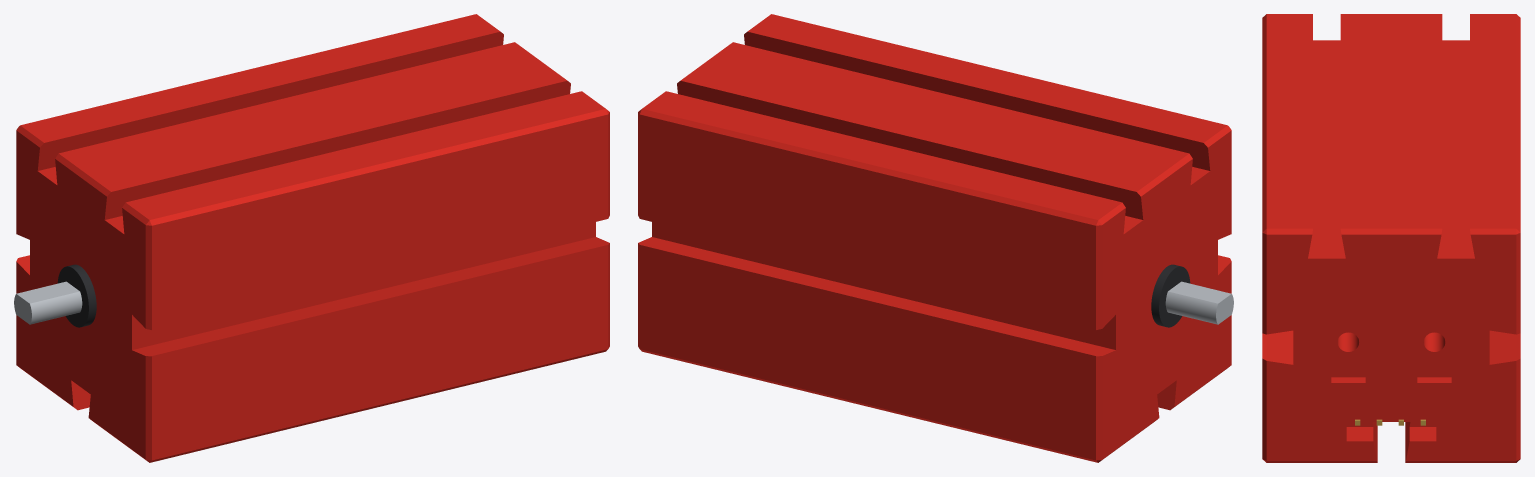
File: encoder_motor.glb
The picture shows the model from 3 angles, left to right: view 1: azimuth 30°, elevation 25°; view 2: azimuth 150°, elevation 25°; view 3: azimuth 270°, elevation 25°; orthographic projection. The views are drawn at different scales.
Parts seen in each view (by area): view 1: housing, output_shaft, bearing_collar; view 2: housing, output_shaft, bearing_collar; view 3: housing.
Boxes of the visible parts, x1,y1,x2,y2 form: housing: (16,14,609,462); output_shaft: (14,281,82,324); bearing_collar: (57,264,96,327); housing: (638,14,1231,462); output_shaft: (1165,281,1233,324); bearing_collar: (1151,264,1190,327); housing: (1262,14,1520,462).
Bounding box in the file's own units: 0.0675 × 0.03 × 0.03.
